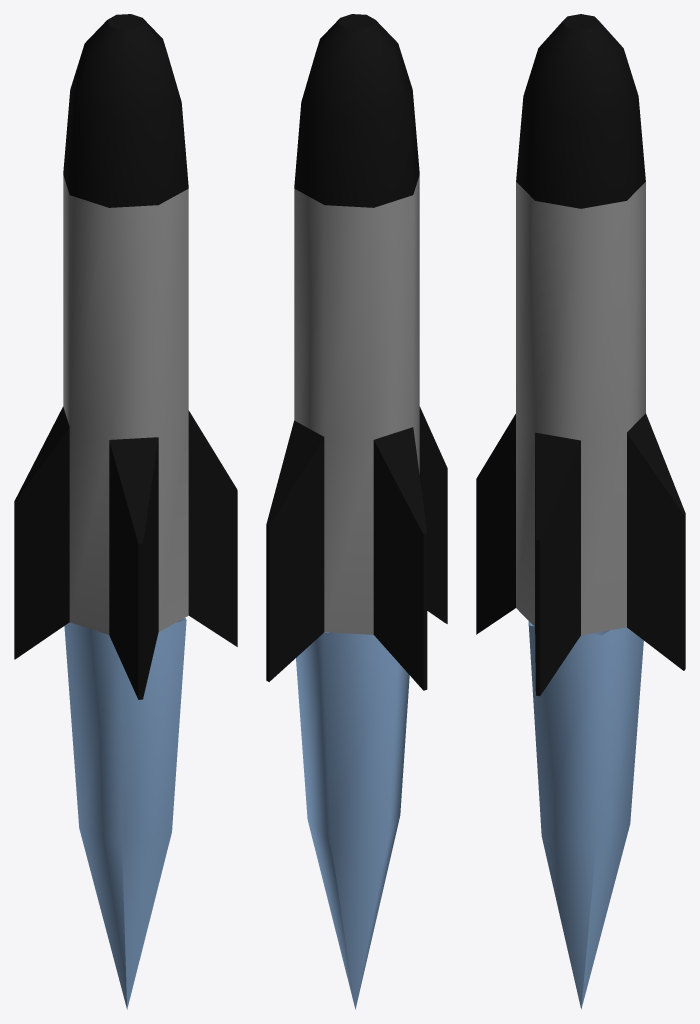
Rendered from misil.FBX.
The picture shows the model from 3 angles, left to right: view 1: azimuth 30°, elevation 25°; view 2: azimuth 150°, elevation 25°; view 3: azimuth 270°, elevation 25°; orthographic projection.
Visible parts, largest first — view 1: misil, Group007; view 2: misil, Group007; view 3: misil, Group007.
Boxes of the visible parts, x1,y1,x2,y2 form: misil: [14, 14, 237, 699]; Group007: [64, 618, 186, 1009]; misil: [266, 14, 447, 690]; Group007: [296, 632, 409, 1009]; misil: [476, 14, 685, 696]; Group007: [528, 621, 643, 1009].
Size of the model in its own units: 3.22 by 3.22 by 16.77.
